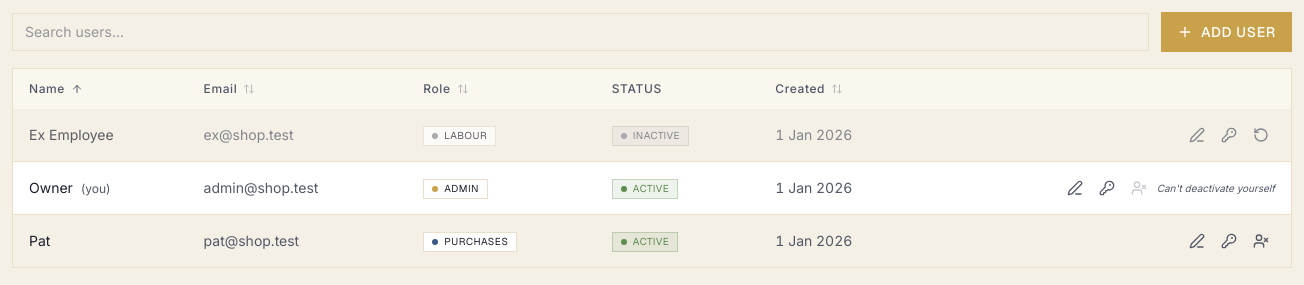
Test: UsersTable — search filter › filters by name
In the search field with placeholder "Search users…": (580, 32) x1=12 y1=13 x2=1149 y2=51, type "Pat"
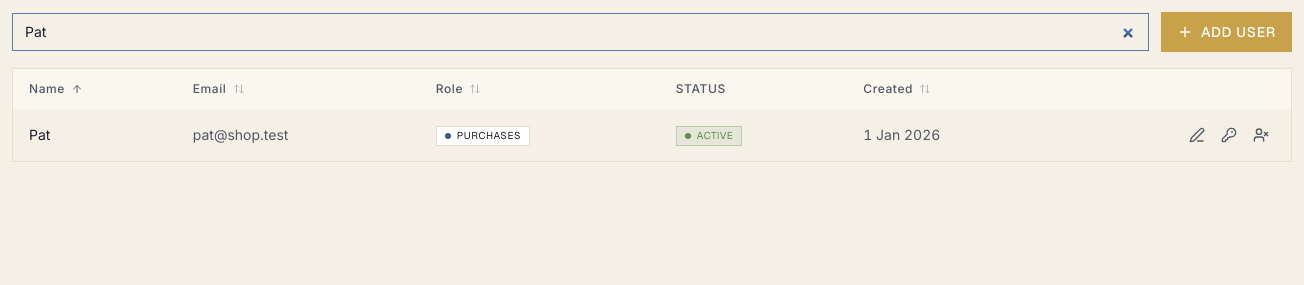
Expected: the row with test id "user-row-p-1" is shown, x1=13 y1=109 x2=1291 y2=161
Result: the row with test id "user-row-admin-1" is gone
Result: the row with test id "user-row-deactivated" is gone
